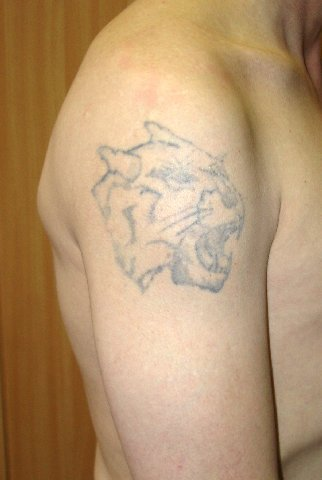tatu5_tigr: (89, 118, 247, 296)
